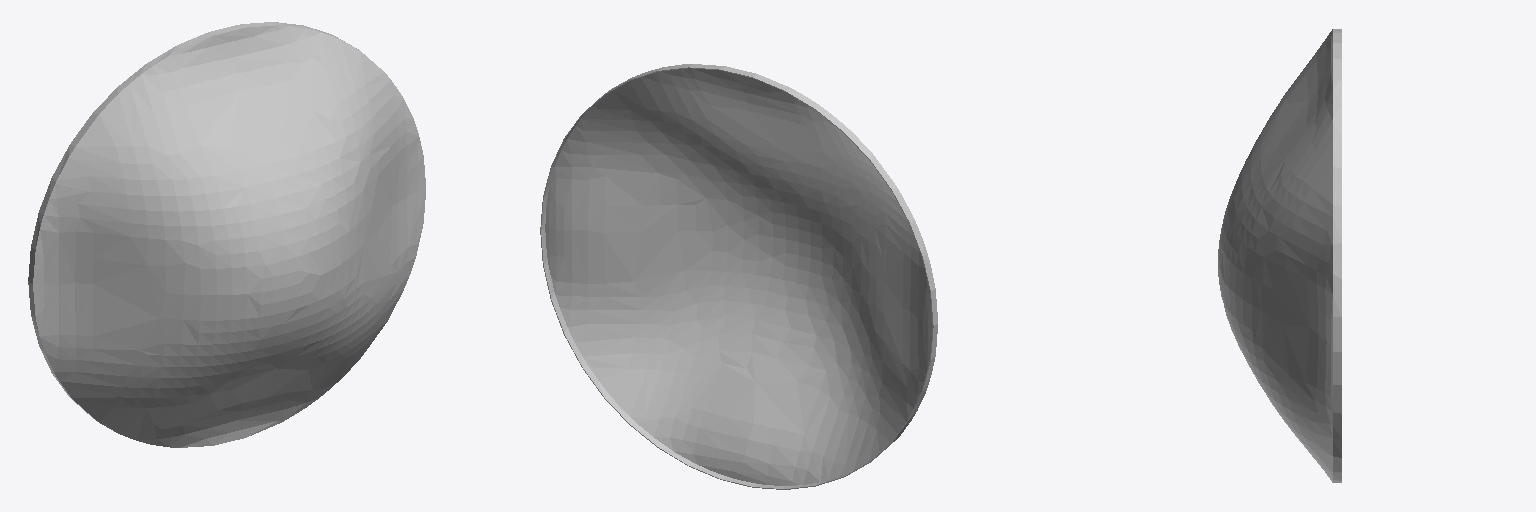
File: eyeball_sclera.obj
3 views of the same model, side by side, from view 1: azimuth 30°, elevation 25°; view 2: azimuth 150°, elevation 25°; view 3: azimuth 270°, elevation 25° (orthographic).
Visible parts, largest first — view 1: default; view 2: default; view 3: default.
Part boxes in pixels (x1,y1,x2,y2): default: (28,22,425,447); default: (540,64,937,489); default: (1218,29,1341,482).
Bounding box in the file's own units: 12.09 × 12.05 × 3.31.